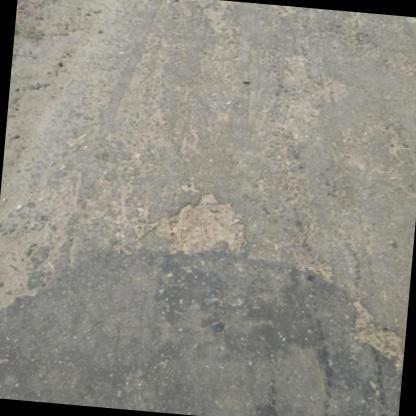pothole: (272, 51, 348, 133), (152, 189, 243, 254), (0, 211, 57, 308), (350, 298, 407, 372)
